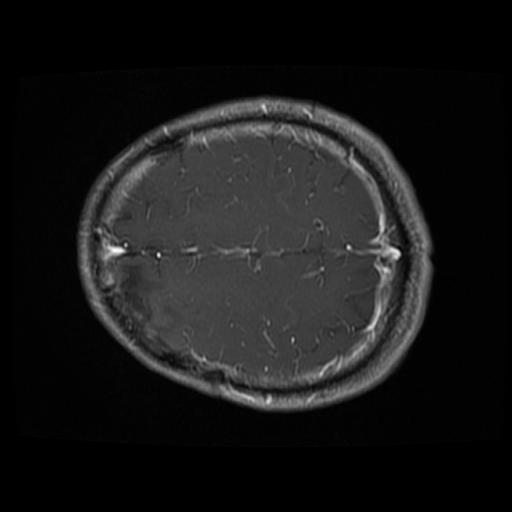glioma: (109, 264, 188, 356)
